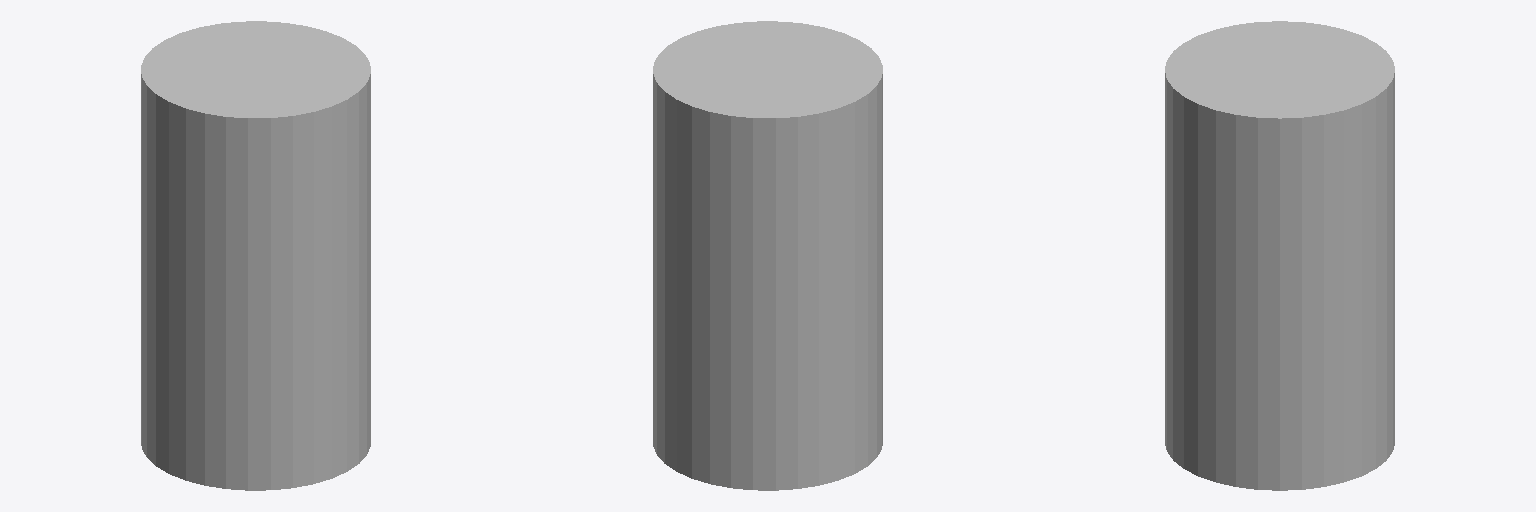
File: cylander.obj
The picture shows the model from 3 angles: view 1: azimuth 30°, elevation 25°; view 2: azimuth 150°, elevation 25°; view 3: azimuth 270°, elevation 25°; orthographic projection.
Parts seen in each view (by area): view 1: Cylinder; view 2: Cylinder; view 3: Cylinder.
Boxes of the visible parts, x1,y1,x2,y2 form: Cylinder: [141, 21, 370, 490]; Cylinder: [653, 21, 882, 490]; Cylinder: [1165, 21, 1394, 490].
Bounding box in the file's own units: 1.12 × 2 × 1.12.